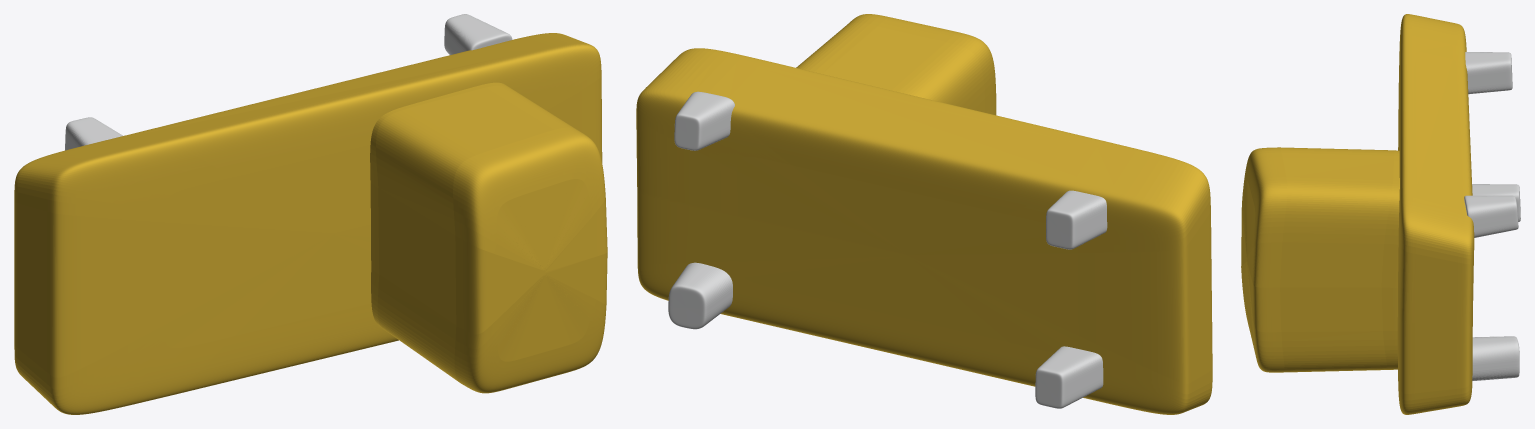
The model's file is 11_pickup_truck_sq.glb.
3 views of the same model, side by side, from view 1: azimuth 30°, elevation 25°; view 2: azimuth 150°, elevation 25°; view 3: azimuth 270°, elevation 25° (orthographic). The views are drawn at different scales.
Visible parts, largest first — view 1: superquadric_1, superquadric_0, superquadric_4, superquadric_2; view 2: superquadric_1, superquadric_0, superquadric_5, superquadric_3, superquadric_2, superquadric_4; view 3: superquadric_0, superquadric_1, superquadric_5, superquadric_4, superquadric_2, superquadric_3.
Part boxes in pixels (left/top/right/bottom): superquadric_1: left=14, top=33, right=602, bottom=414; superquadric_0: left=370, top=82, right=607, bottom=393; superquadric_4: left=444, top=14, right=512, bottom=54; superquadric_2: left=65, top=117, right=122, bottom=150; superquadric_1: left=636, top=48, right=1212, bottom=414; superquadric_0: left=796, top=14, right=996, bottom=115; superquadric_5: left=668, top=262, right=732, bottom=329; superquadric_3: left=1035, top=346, right=1103, bottom=408; superquadric_2: left=1046, top=190, right=1107, bottom=249; superquadric_4: left=674, top=91, right=734, bottom=150; superquadric_0: left=1241, top=147, right=1399, bottom=372; superquadric_1: left=1397, top=14, right=1474, bottom=414; superquadric_5: left=1472, top=336, right=1519, bottom=380; superquadric_4: left=1464, top=195, right=1518, bottom=237; superquadric_2: left=1465, top=52, right=1512, bottom=94; superquadric_3: left=1472, top=184, right=1520, bottom=221.
Size of the model in its own units: 1 by 0.4325 by 0.537.
